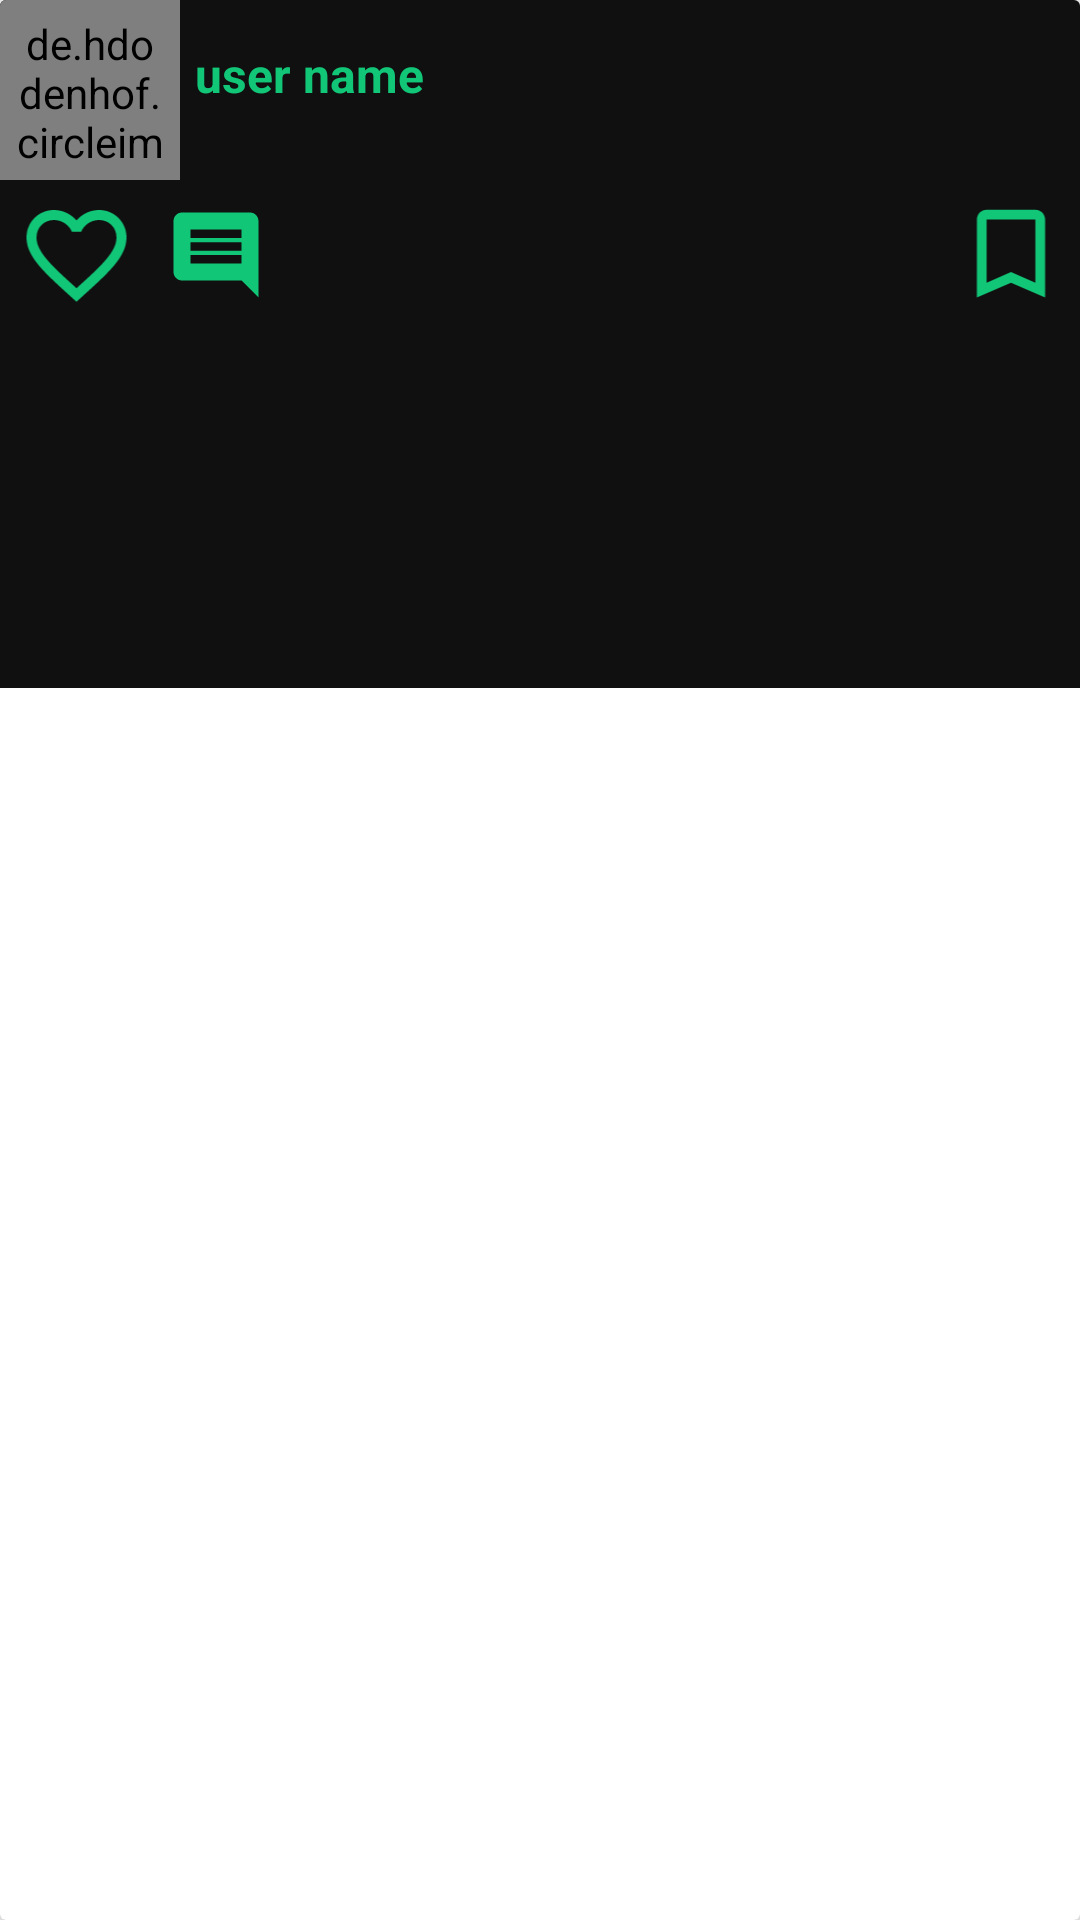

Point at icon controls on the screen. Image size 1080 x 1920, points as [x,y].
bookmark border: [1011,253]
comment: [216,254]
favorite border: [76,256]
